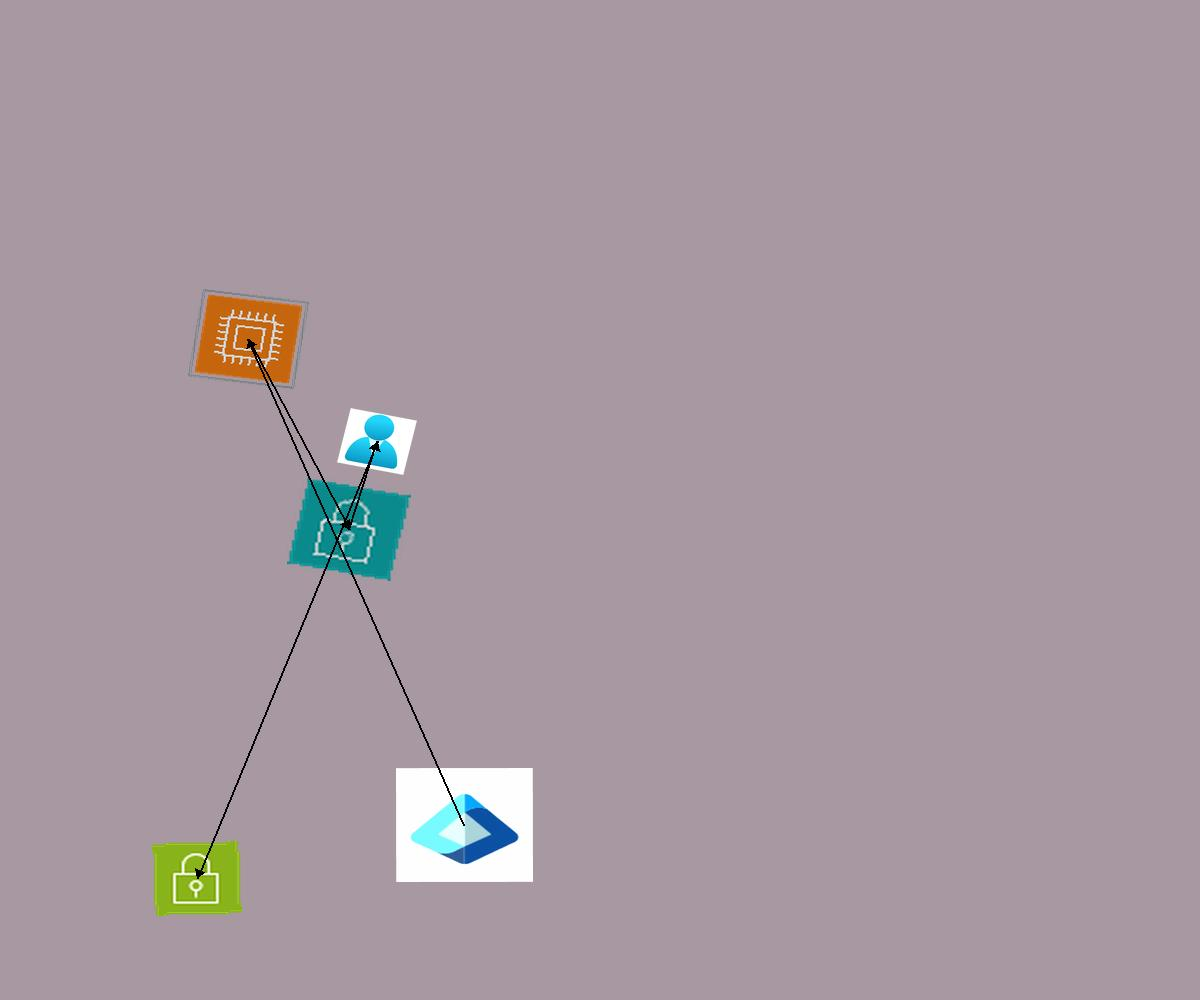AWS-Category_Compute: (188, 289, 309, 389)
AWS-Private-subnet: (287, 478, 411, 581)
AWS-Public-subnet: (152, 841, 242, 916)
Azure_microsoft_entra: (396, 768, 533, 882)
Azure_users: (337, 408, 417, 475)
